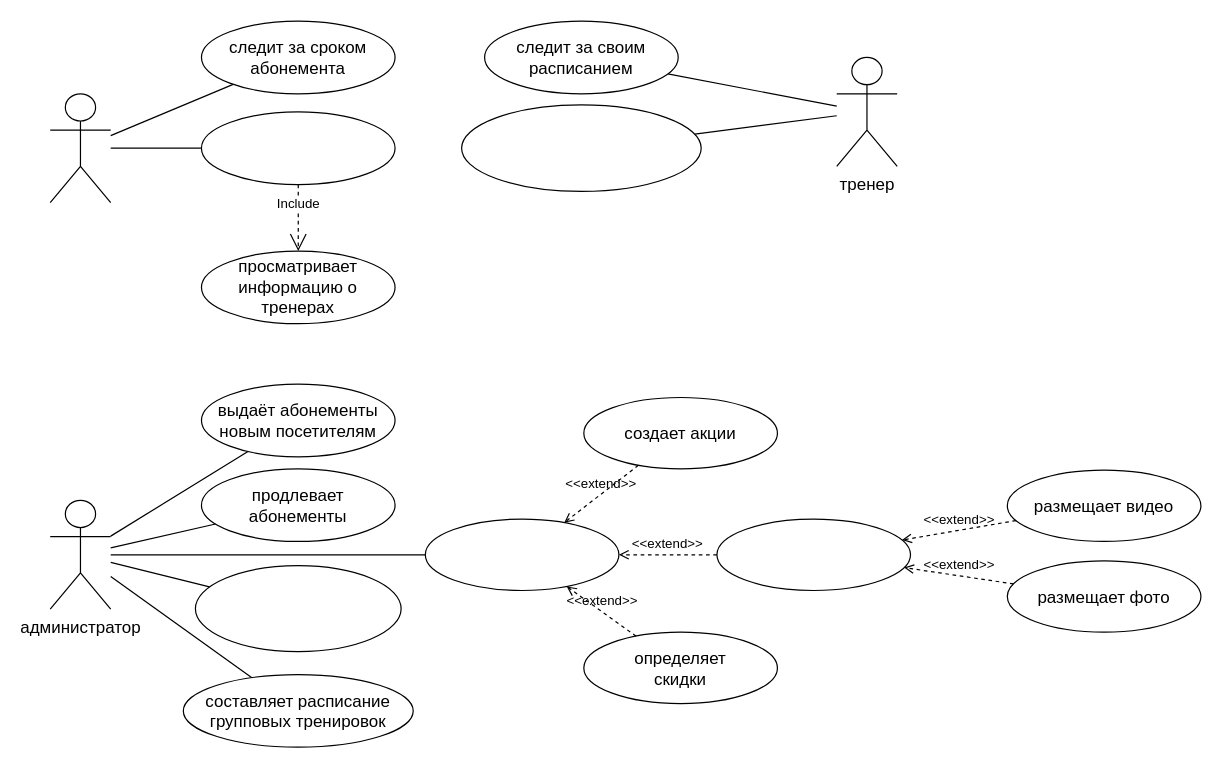
Image size: 1222x768. Some labels were removed from this diagram. Here are the shapes that lost their labels. From the top down, the centre of each, then its label:
At (x=80, y=148): "посетитель".
At (x=297, y=148): "записывается на тренировки".
At (x=580, y=147): "видит информацию о записавшемся посетителе".
At (x=521, y=554): "ведёт ленту новостей".
At (x=813, y=554): "размещение медиа-контента".
At (x=297, y=608): "запрашивает отзывы у посетителей клуба".
